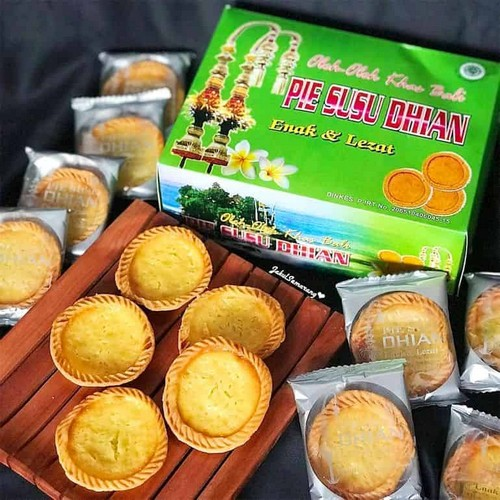pie susu: (15, 388, 188, 487), (151, 334, 282, 460), (34, 293, 158, 393), (109, 223, 216, 319), (176, 284, 287, 369)
